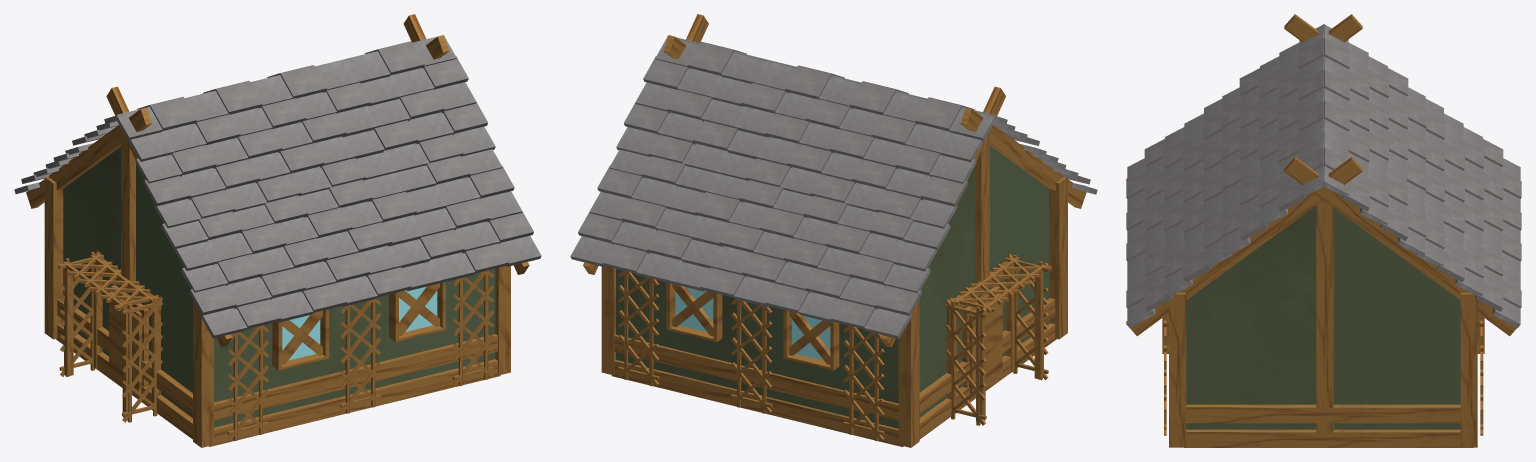
Rendered from House1.fbx.
3 renders of one model, left to right at view 1: azimuth 30°, elevation 25°; view 2: azimuth 150°, elevation 25°; view 3: azimuth 270°, elevation 25°, orthographic.
Parts seen in each view (by area): view 1: polySurface846; view 2: polySurface846; view 3: polySurface846.
Part boxes in pixels (x1,y1,x2,y2): polySurface846: (14, 14, 541, 447); polySurface846: (570, 14, 1097, 447); polySurface846: (1126, 14, 1521, 447).
Bounding box in the file's own units: 2.09 × 1.65 × 2.04.
